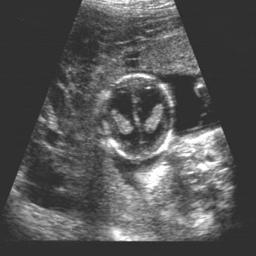abnormal: (94, 70, 178, 164)
